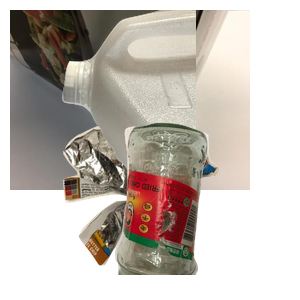cardboard: (10, 10, 250, 190)
glass: (112, 120, 300, 300)
plastic: (60, 10, 300, 190)
trash: (61, 123, 273, 300)
